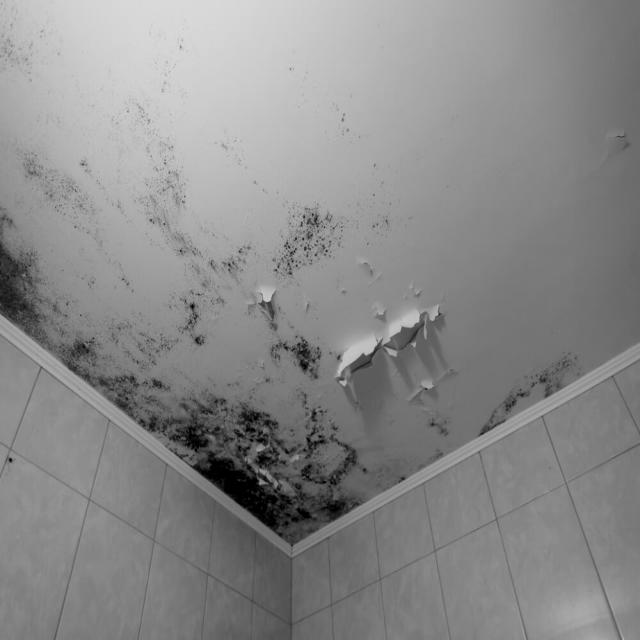stain marks: (96, 379, 371, 545), (125, 94, 254, 366), (0, 208, 137, 420), (338, 107, 418, 248), (478, 351, 584, 442), (272, 196, 348, 278), (271, 328, 324, 386), (424, 410, 451, 464)
